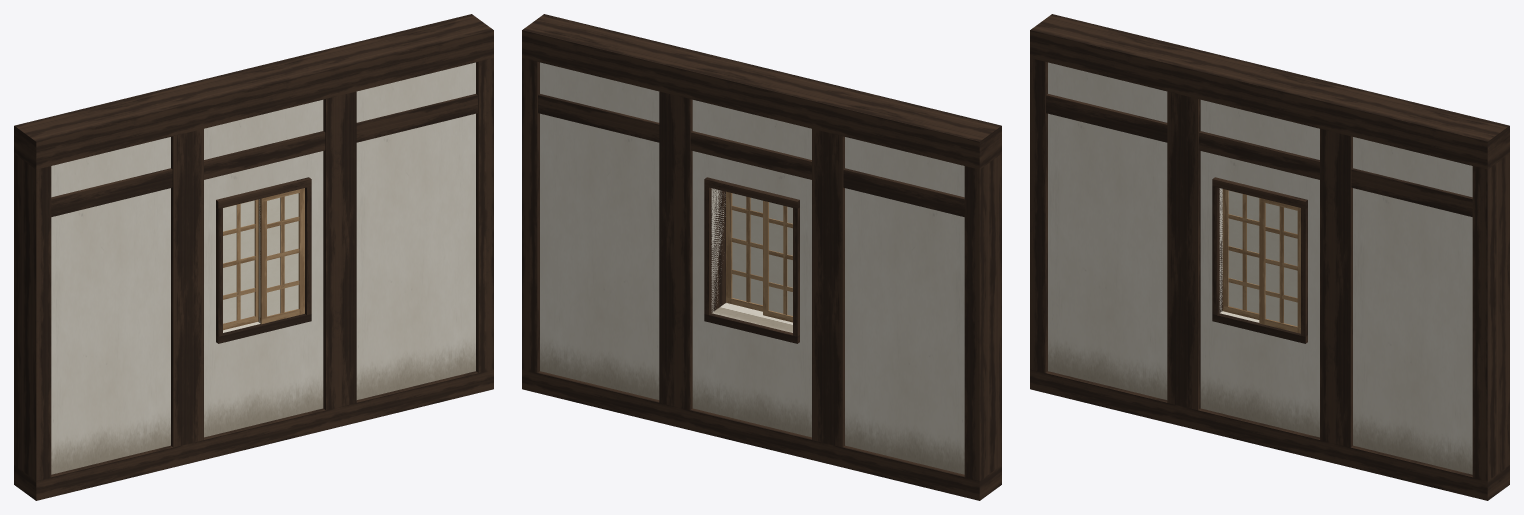
The model's file is HO_Wall_Plaster_Window_12.fbx.
3 renders of one model, left to right at view 1: azimuth 30°, elevation 25°; view 2: azimuth 150°, elevation 25°; view 3: azimuth 330°, elevation 25°, orthographic.
Visible parts, largest first — view 1: HO_Wall_Plaster_Window_12__Plaster_White, HO_Wall_Plaster_Window_12__Timber_Dark, HO_Wall_Plaster_Window_12__Shoji_Paper, HO_Wall_Plaster_Window_12__Timber_Light; view 2: HO_Wall_Plaster_Window_12__Plaster_White, HO_Wall_Plaster_Window_12__Timber_Dark, HO_Wall_Plaster_Window_12__Shoji_Paper, HO_Wall_Plaster_Window_12__Timber_Light; view 3: HO_Wall_Plaster_Window_12__Plaster_White, HO_Wall_Plaster_Window_12__Timber_Dark, HO_Wall_Plaster_Window_12__Shoji_Paper, HO_Wall_Plaster_Window_12__Timber_Light.
Part boxes in pixels (x1,y1,x2,y2): HO_Wall_Plaster_Window_12__Plaster_White: [51, 62, 475, 474]; HO_Wall_Plaster_Window_12__Timber_Dark: [14, 14, 493, 500]; HO_Wall_Plaster_Window_12__Shoji_Paper: [223, 193, 298, 323]; HO_Wall_Plaster_Window_12__Timber_Light: [223, 188, 304, 330]; HO_Wall_Plaster_Window_12__Plaster_White: [540, 62, 964, 474]; HO_Wall_Plaster_Window_12__Timber_Dark: [522, 14, 1001, 500]; HO_Wall_Plaster_Window_12__Shoji_Paper: [732, 193, 792, 315]; HO_Wall_Plaster_Window_12__Timber_Light: [726, 191, 792, 322]; HO_Wall_Plaster_Window_12__Plaster_White: [1048, 62, 1472, 474]; HO_Wall_Plaster_Window_12__Timber_Dark: [1030, 14, 1509, 500]; HO_Wall_Plaster_Window_12__Shoji_Paper: [1228, 190, 1297, 326]; HO_Wall_Plaster_Window_12__Timber_Light: [1222, 189, 1300, 333].
Bounding box in the file's own units: 12 × 9 × 1.
